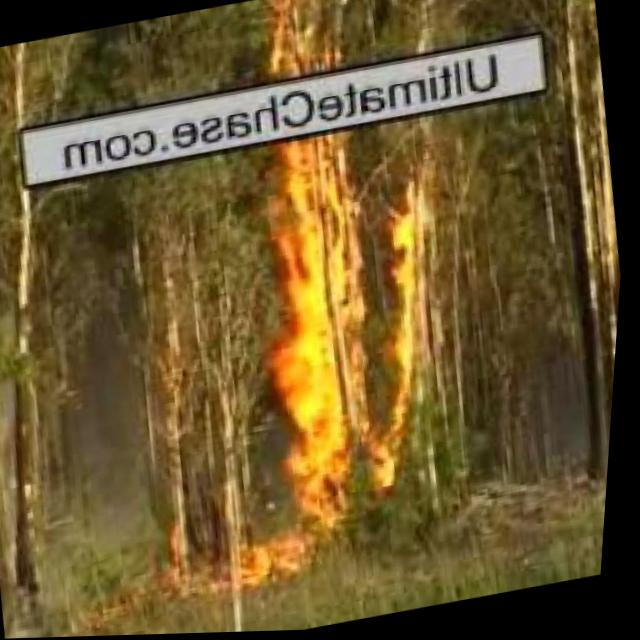Fire: (222, 110, 497, 523), (254, 0, 335, 92), (243, 533, 317, 594)
